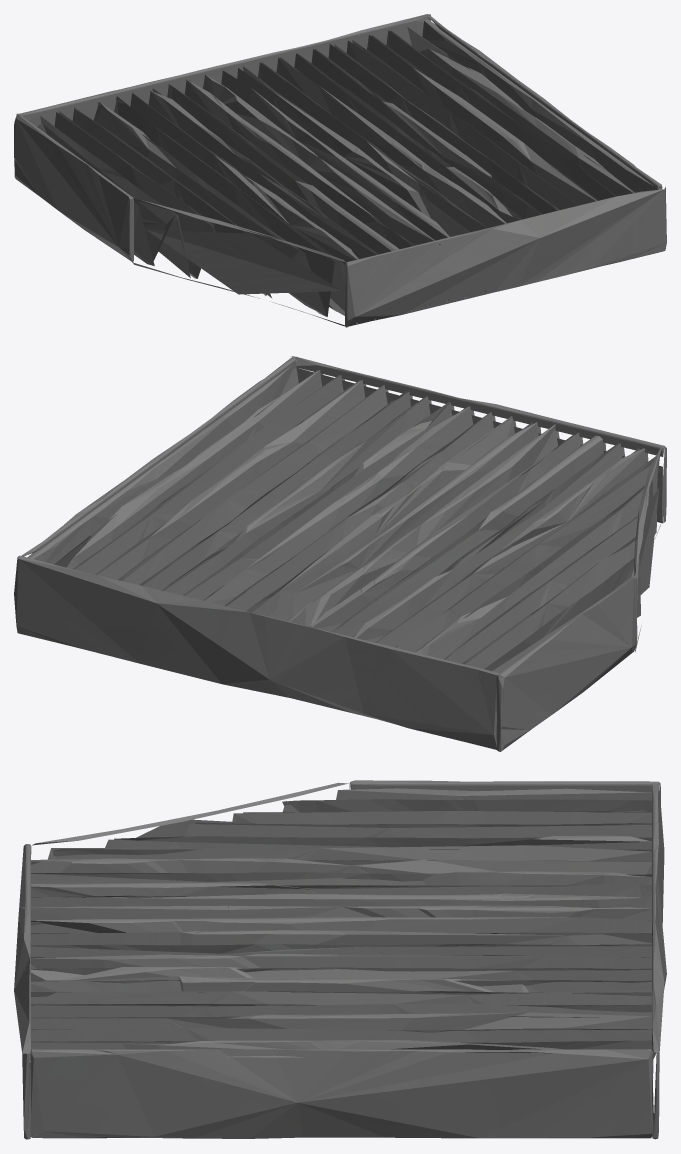
File: consumable_cabin_filter_carbon_a01.glb
The picture shows the model from 3 angles, top to bottom: view 1: azimuth 30°, elevation 25°; view 2: azimuth 150°, elevation 25°; view 3: azimuth 270°, elevation 25°; orthographic projection. The views are drawn at different scales.
Visible parts, largest first — view 1: geometry_0; view 2: geometry_0; view 3: geometry_0.
Boxes of the visible parts, x1,y1,x2,y2 form: geometry_0: (14, 14, 666, 327); geometry_0: (14, 356, 666, 751); geometry_0: (14, 780, 666, 1139).
Bounding box in the file's own units: 0.42 × 0.0635 × 0.4186.
1 material, 1 textured.
